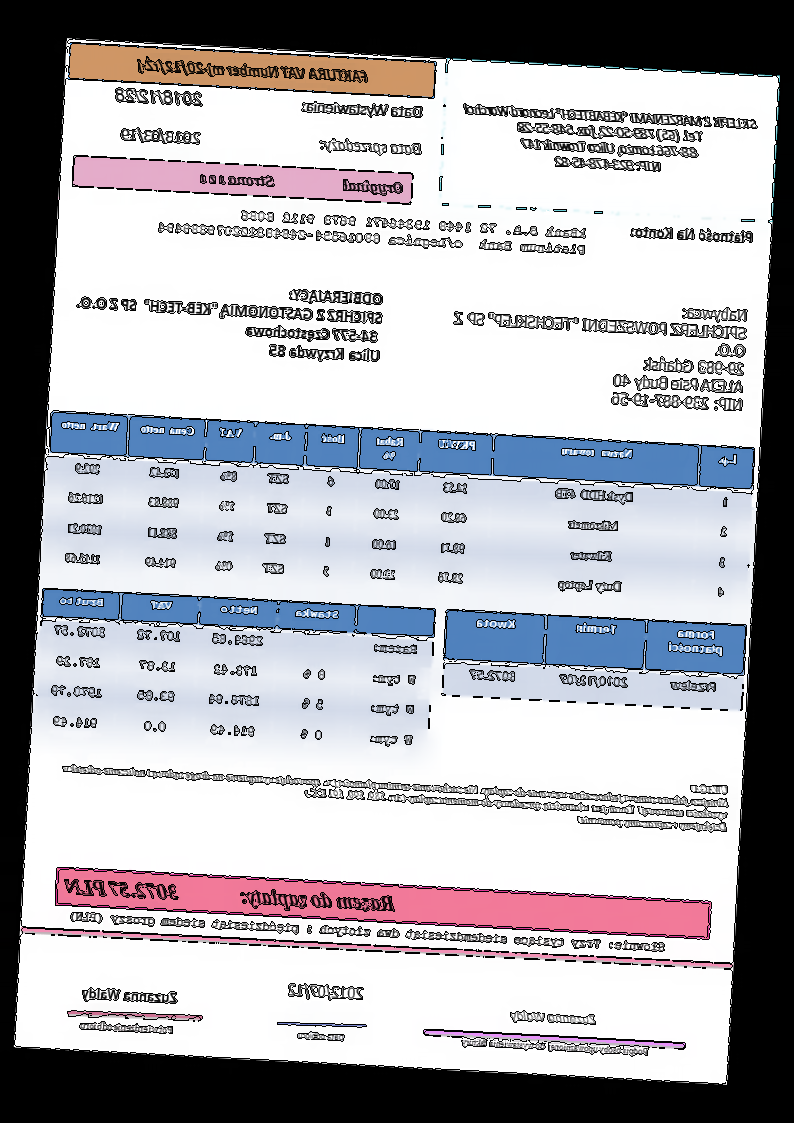Table: (40, 407, 757, 615), (33, 585, 438, 761), (440, 606, 748, 713)
TextBox: (56, 747, 732, 835), (447, 290, 750, 415), (72, 274, 388, 367), (68, 908, 668, 956), (456, 99, 760, 182), (155, 201, 590, 258), (60, 872, 400, 917), (133, 55, 371, 86), (197, 168, 406, 200), (458, 1033, 652, 1059), (299, 95, 427, 124), (316, 132, 427, 160), (627, 223, 756, 246), (78, 982, 182, 1008), (113, 84, 205, 112), (78, 1015, 176, 1039), (507, 1005, 602, 1029), (286, 979, 369, 1004), (118, 125, 205, 148), (295, 1025, 348, 1046)
